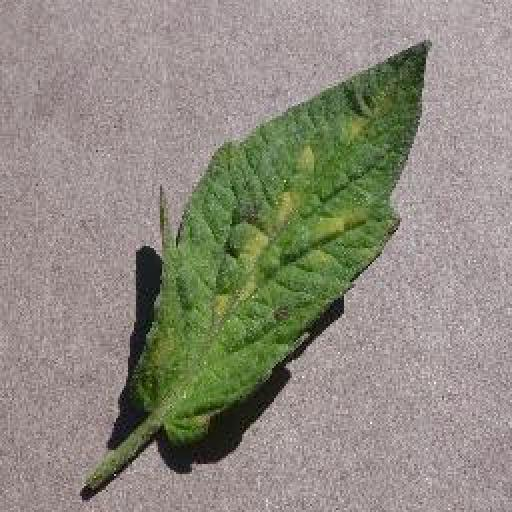disease_tomato: (136, 38, 430, 446)
